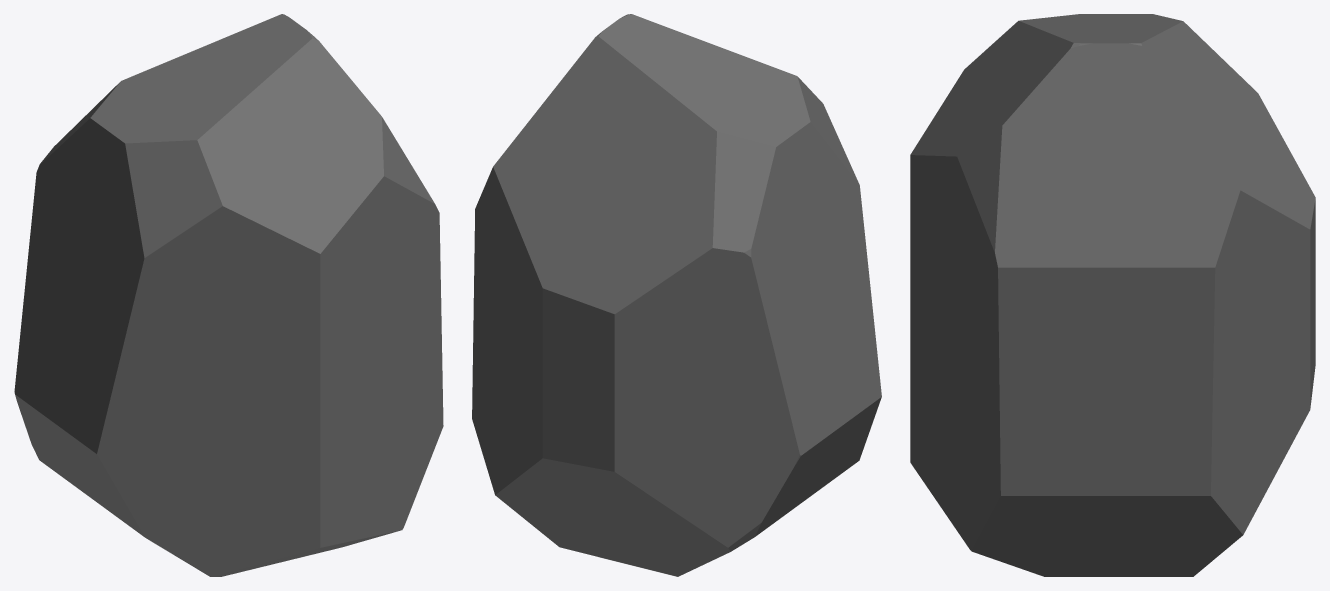
File: Rock_08.fbx
The picture shows the model from 3 angles, left to right: view 1: azimuth 30°, elevation 25°; view 2: azimuth 150°, elevation 25°; view 3: azimuth 270°, elevation 25°; orthographic projection. The views are drawn at different scales.
Parts seen in each view (by area): view 1: Rock_08_LOD0; view 2: Rock_08_LOD0; view 3: Rock_08_LOD0.
Boxes of the visible parts, box(x1,y1,x2,y2) form: Rock_08_LOD0: box(14, 14, 443, 576); Rock_08_LOD0: box(472, 14, 881, 576); Rock_08_LOD0: box(910, 14, 1315, 576).
Size of what is drawn, in the model's own units: 0.8155 by 1.19 by 0.8272.
